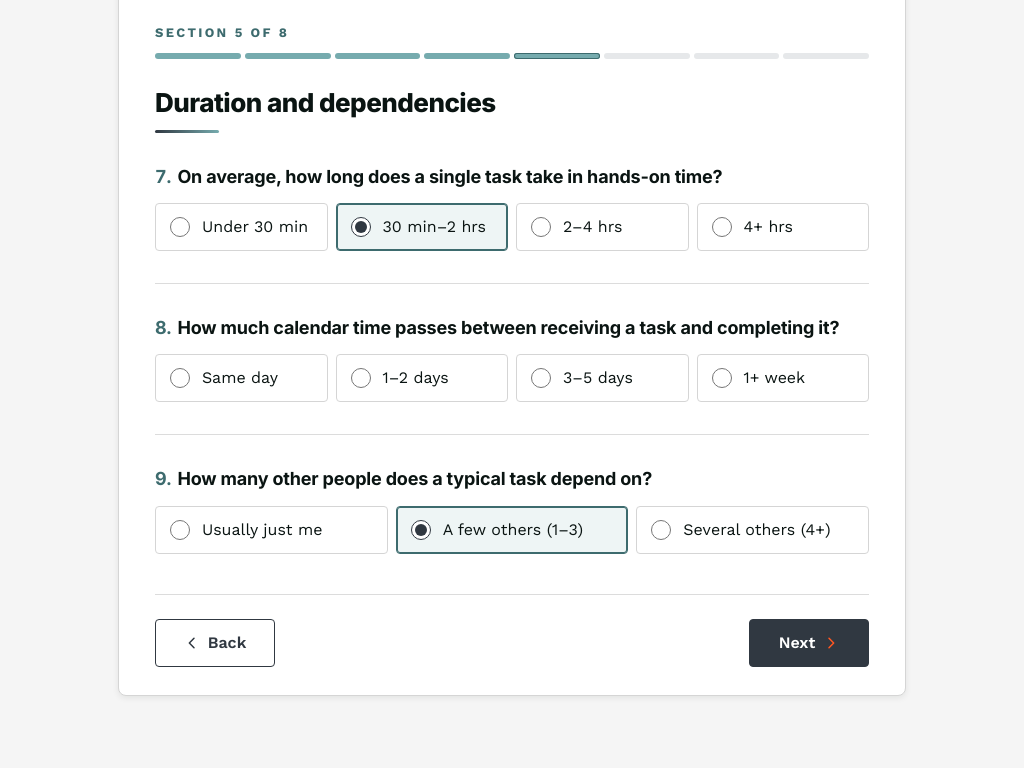
it: required questions › blocks Next on a single-choice section until each question is answered
(page scrolled)
Expected: the heading reads "Duration and dependencies", [155,86,496,118]
Click the button "Next" at (809, 643), box [749,619,869,667]
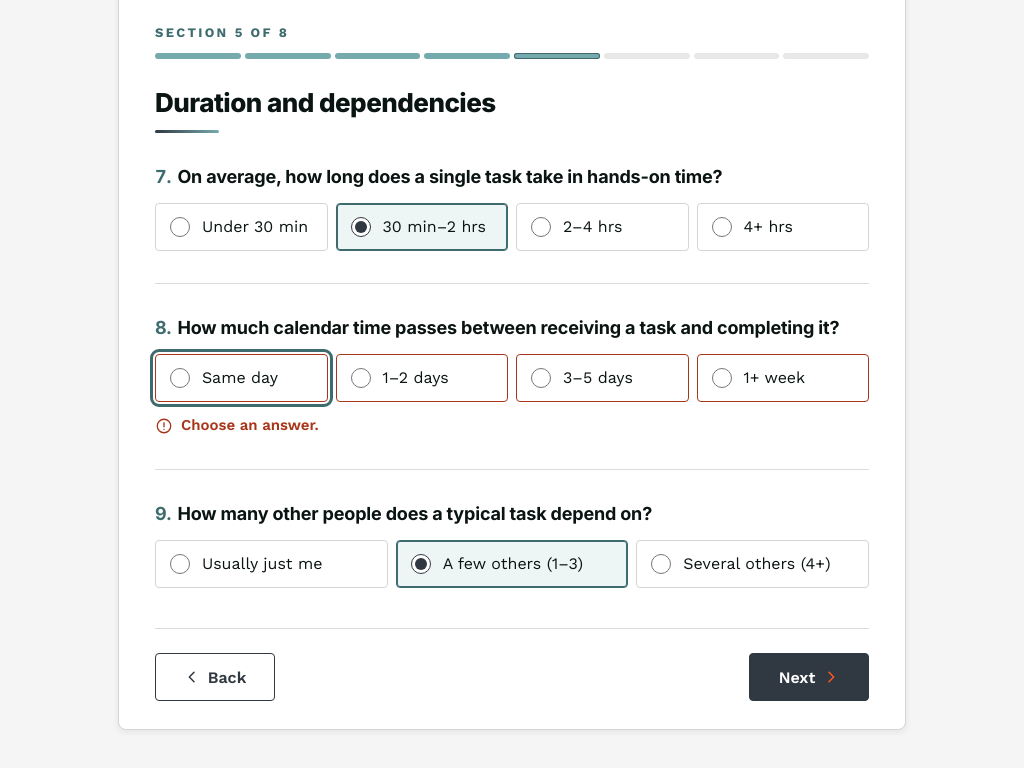
Expected: the heading reads "Duration and dependencies", [155,86,496,118]
Now the element "calendar time" is marked as invalid, box [155,283,869,437]
Click the radio button labelled "3–5 days" at (541, 378), box [531,368,551,388]
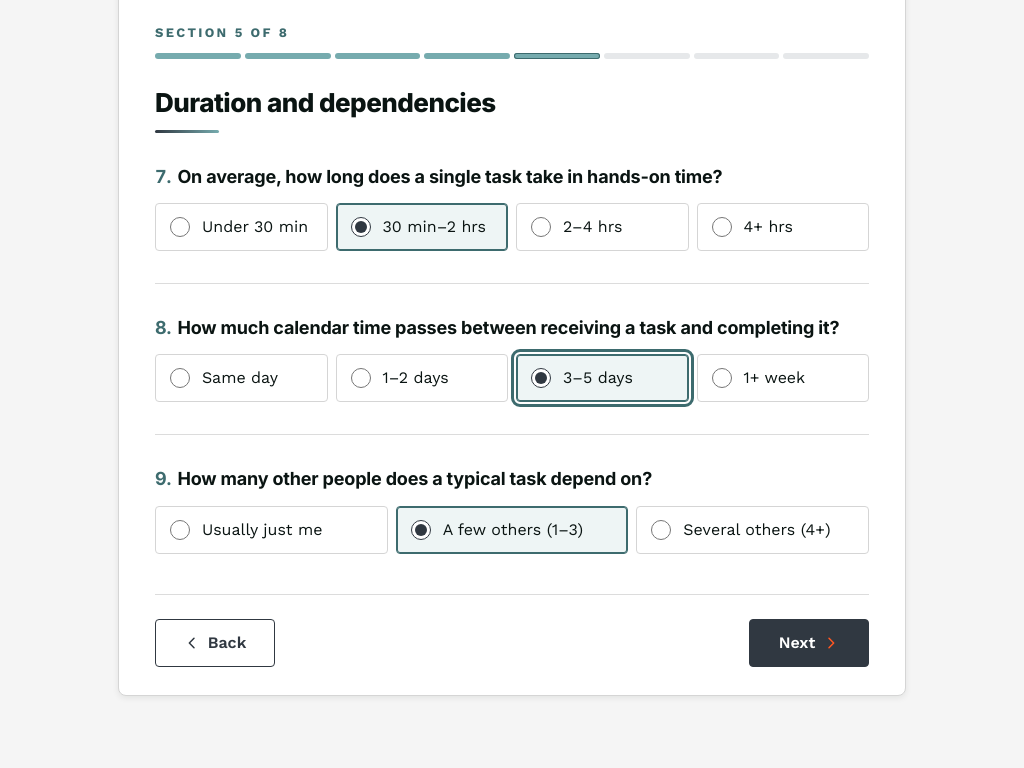
Click the button "Next" at (809, 643), box [749,619,869,667]
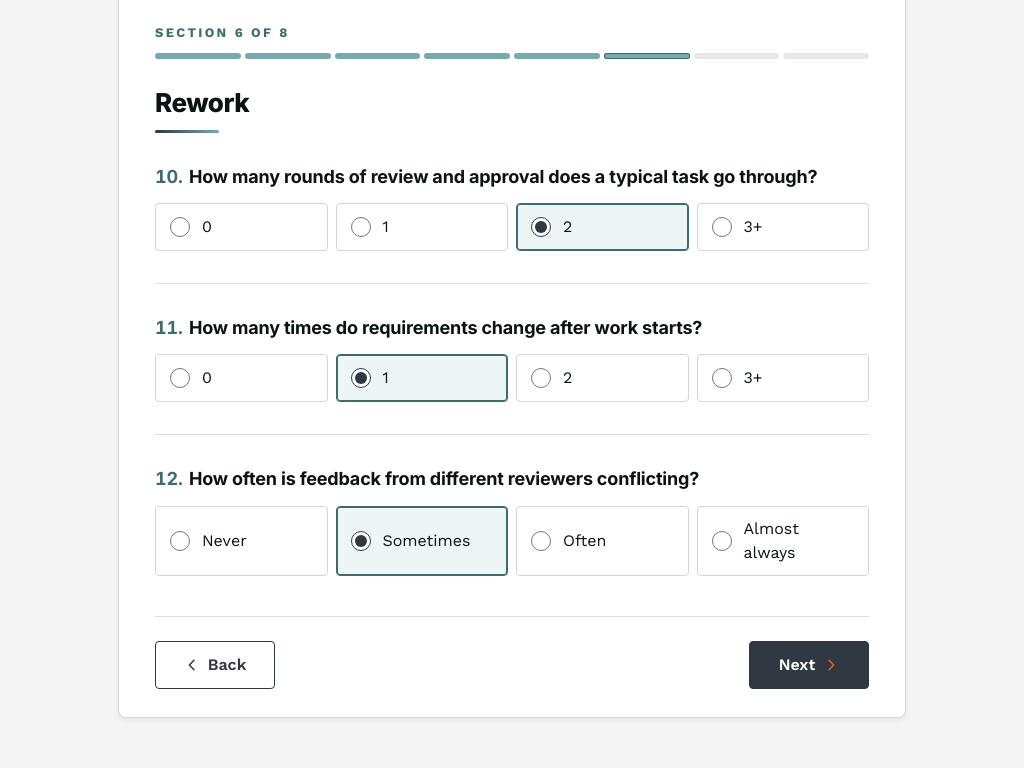
Now the heading reads "Rework", box [155,86,249,118]
